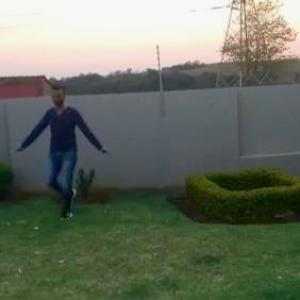land: (15, 95, 106, 222)
